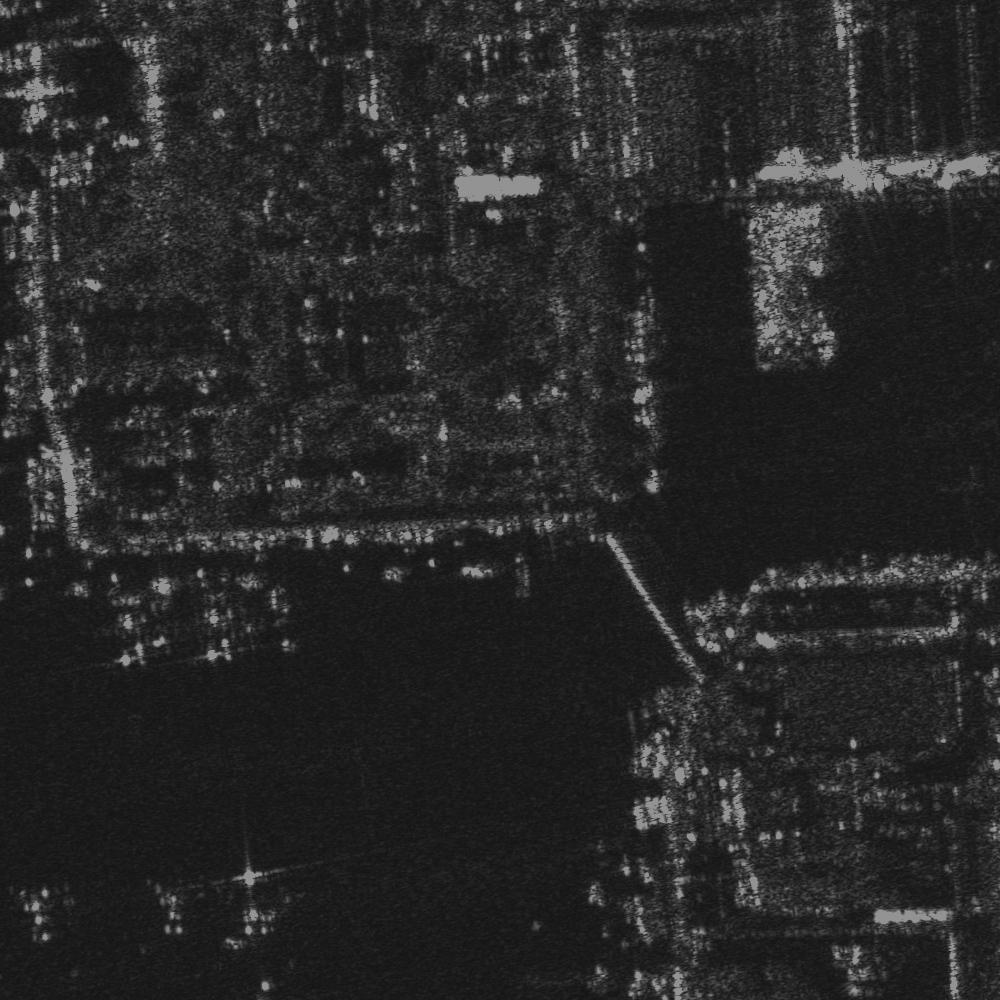ARJ21: (251, 577, 323, 654)
Boeing737: (88, 587, 177, 668)
other: (224, 857, 296, 949), (185, 588, 256, 667), (10, 874, 76, 951), (149, 872, 209, 935)
